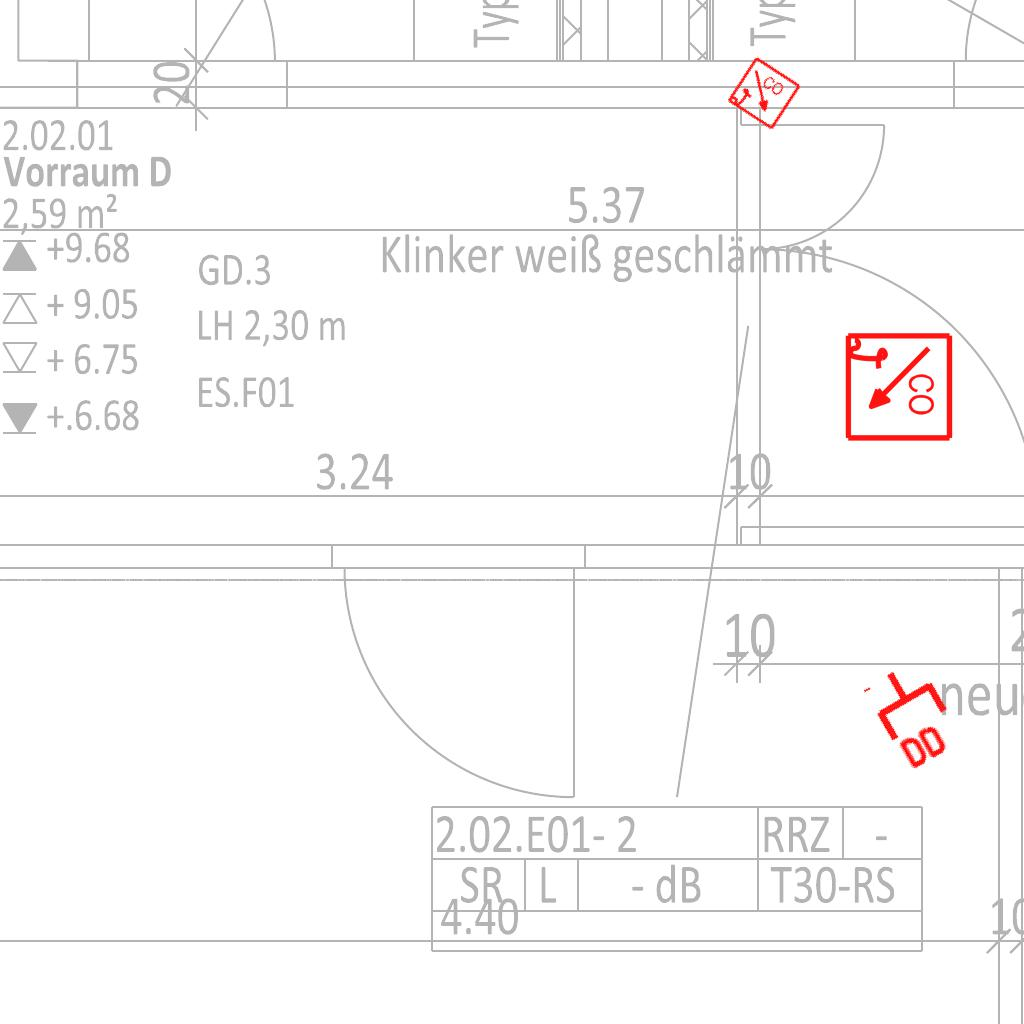Datenanschluss_zweifach: (859, 652, 972, 777)
ROA_Rauchmelder_optisch_mit_Signalgeber_(Sockelsirene): (841, 331, 954, 444), (725, 55, 803, 133)
